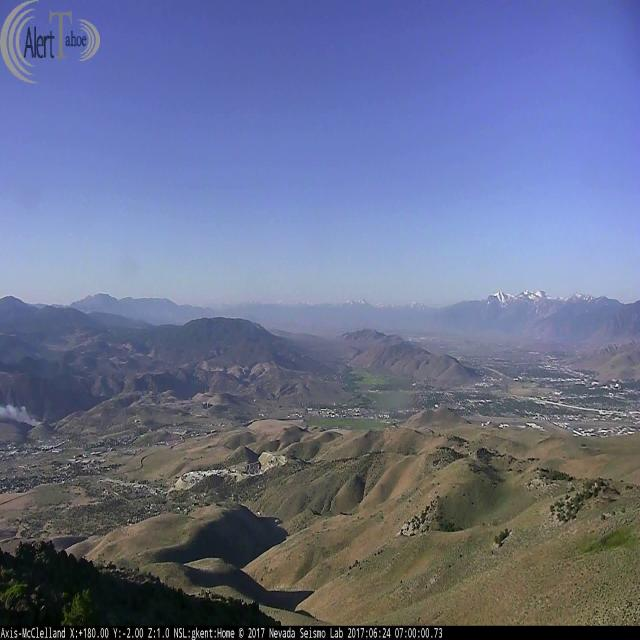smoke: (0, 396, 45, 432)
